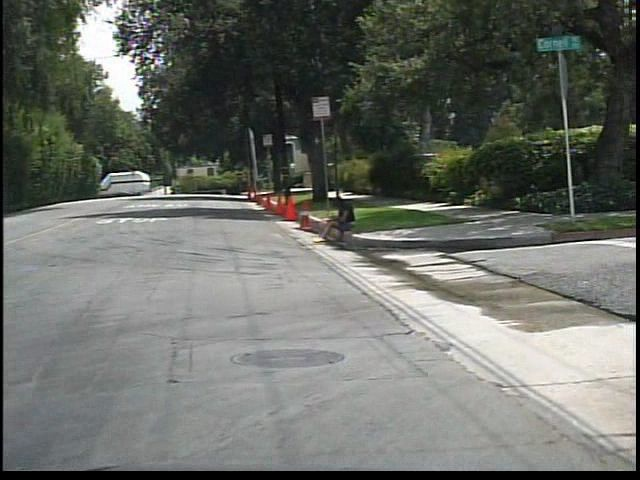person: (316, 193, 369, 246)
